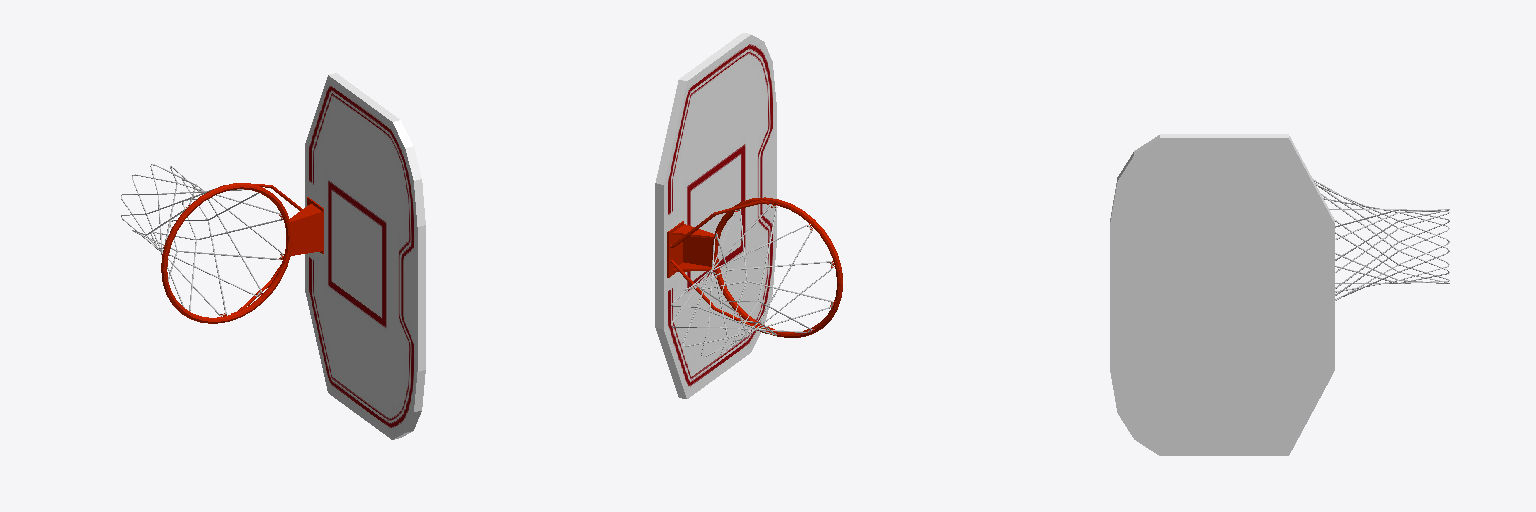
3 renders of one model, left to right at view 1: azimuth 30°, elevation 25°; view 2: azimuth 150°, elevation 25°; view 3: azimuth 270°, elevation 25°, orthographic.
Visible parts, largest first — view 1: Cube.002, BezierCircle_Mesh, Circle.001, Cube.001; view 2: Cube.002, Circle.001, Cube.001, BezierCircle_Mesh; view 3: Cube.002, Circle.001.
Part boxes in pixels (bbox=[...]): Cube.002: bbox=[305, 73, 425, 439]; BezierCircle_Mesh: bbox=[161, 183, 291, 323]; Circle.001: bbox=[121, 164, 282, 315]; Cube.001: bbox=[231, 183, 323, 313]; Cube.002: bbox=[655, 33, 776, 398]; Circle.001: bbox=[671, 205, 833, 356]; Cube.001: bbox=[667, 200, 768, 333]; BezierCircle_Mesh: bbox=[712, 197, 842, 337]; Cube.002: bbox=[1110, 134, 1334, 455]; Circle.001: bbox=[1313, 179, 1449, 300].
Bounding box in the file's own units: 0.6086 × 1.09 × 1.06.
Materials: 4 (1 with a texture image).